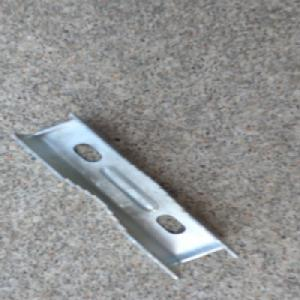ClampPart: (7, 111, 242, 280)
